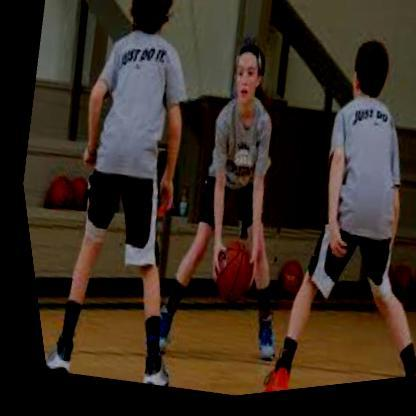basketball: (198, 240, 253, 310), (35, 173, 74, 216), (265, 261, 301, 307), (58, 175, 90, 215), (379, 272, 409, 312), (404, 271, 416, 314)
